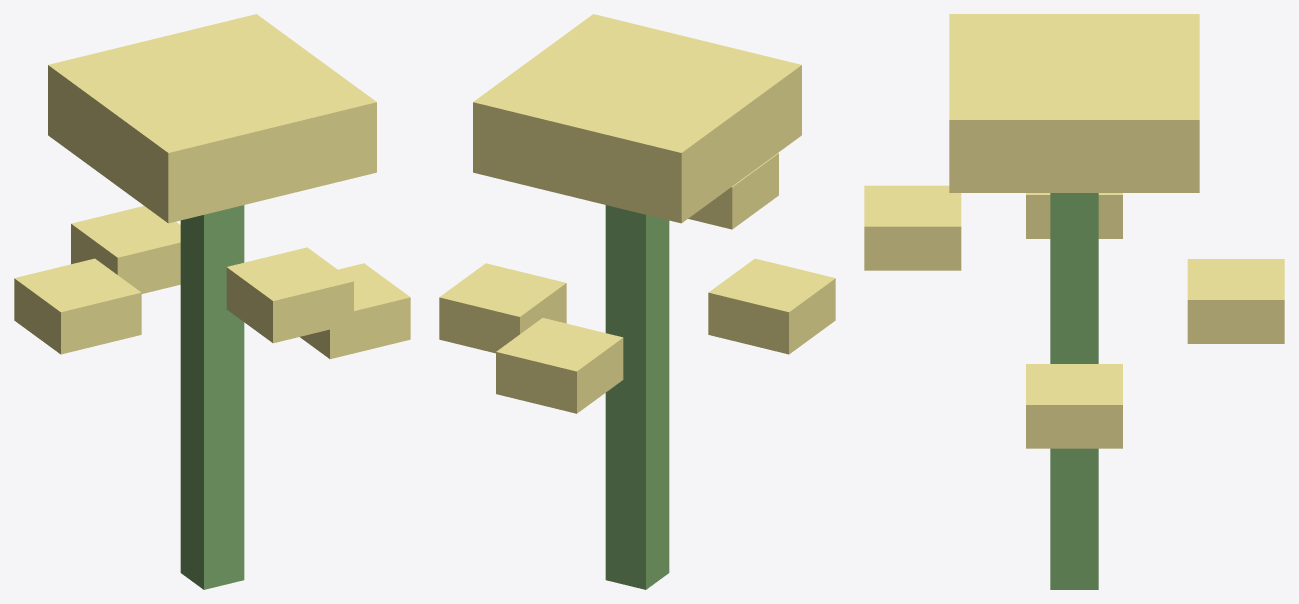
Rendered from Prop_DS_Herb_ParityPetal_S3.glb.
3 renders of one model, left to right at view 1: azimuth 30°, elevation 25°; view 2: azimuth 150°, elevation 25°; view 3: azimuth 270°, elevation 25°, orthographic. The views are drawn at different scales.
Parts seen in each view (by area): view 1: Prop_DS_Herb_ParityPetal_S3; view 2: Prop_DS_Herb_ParityPetal_S3; view 3: Prop_DS_Herb_ParityPetal_S3.
Part boxes in pixels (left/top/right/bottom): Prop_DS_Herb_ParityPetal_S3: left=14, top=14, right=410, bottom=589; Prop_DS_Herb_ParityPetal_S3: left=439, top=14, right=835, bottom=589; Prop_DS_Herb_ParityPetal_S3: left=864, top=14, right=1284, bottom=589.
Bounding box in the file's own units: 0.52 × 0.7 × 0.52.
